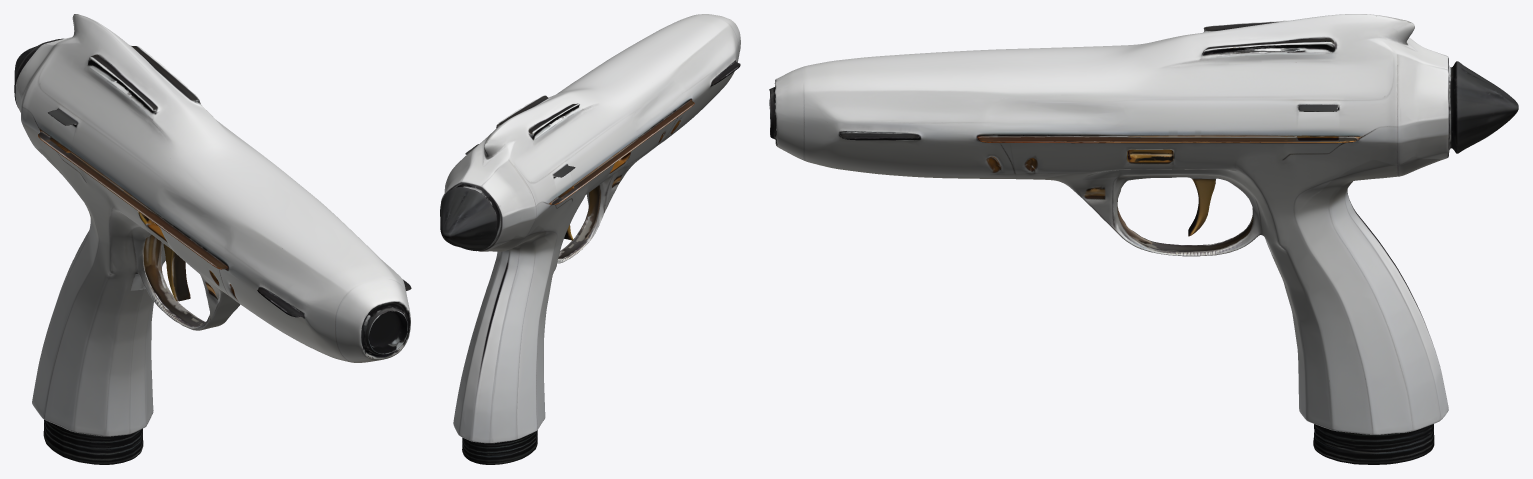
The model's file is Ray gun 01.fbx.
3 renders of one model, left to right at view 1: azimuth 30°, elevation 25°; view 2: azimuth 150°, elevation 25°; view 3: azimuth 270°, elevation 25°, orthographic. The views are drawn at different scales.
Visible parts, largest first — view 1: Ray gun 01; view 2: Ray gun 01; view 3: Ray gun 01.
Boxes of the visible parts, x1,y1,x2,y2 form: Ray gun 01: [14, 14, 411, 464]; Ray gun 01: [440, 14, 740, 464]; Ray gun 01: [769, 14, 1518, 464].
Size of the model in its own units: 40.15 by 120 by 190.
Materials: 1 (1 with a texture image).
